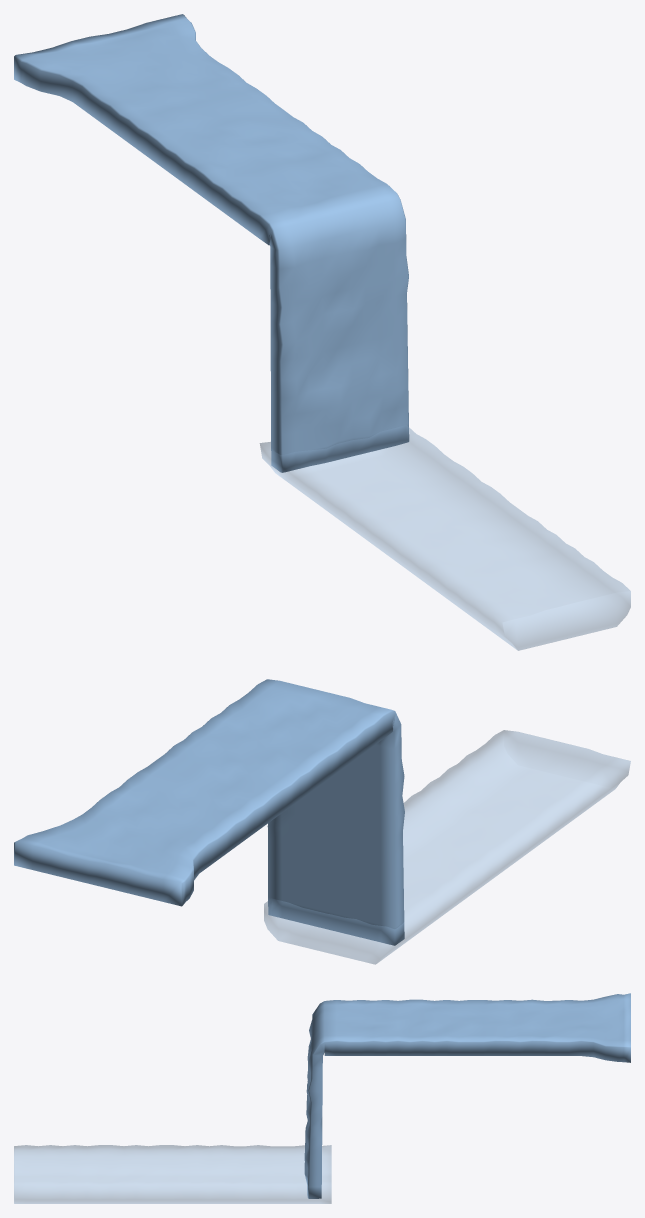
The model's file is water.glb.
The picture shows the model from 3 angles, top to bottom: view 1: azimuth 30°, elevation 25°; view 2: azimuth 150°, elevation 25°; view 3: azimuth 270°, elevation 25°; orthographic projection. The views are drawn at different scales.
Visible parts, largest first — view 1: woda_pietro, woda_parter; view 2: woda_pietro, woda_parter; view 3: woda_pietro, woda_parter.
Boxes of the visible parts, bbox=[...] form: woda_pietro: bbox=[14, 14, 409, 472]; woda_parter: bbox=[260, 425, 630, 650]; woda_pietro: bbox=[14, 679, 404, 945]; woda_parter: bbox=[264, 730, 630, 964]; woda_pietro: bbox=[304, 993, 630, 1198]; woda_parter: bbox=[14, 1145, 331, 1203].
Bounding box in the file's own units: 0.8438 × 1.23 × 4.05.
